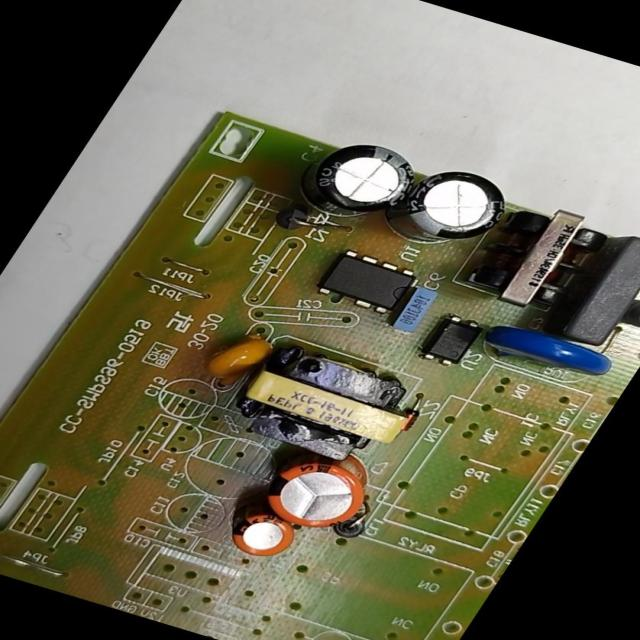Cap1: (236, 436, 396, 542)
Cap2: (210, 498, 322, 570)
Cap3: (365, 153, 531, 265)
Cap4: (285, 128, 436, 236)
MOSFET: (301, 243, 434, 323)
Mov: (458, 309, 626, 391)
Resistor: (610, 288, 639, 340)
Transformer: (199, 331, 437, 471), (445, 192, 628, 321)
